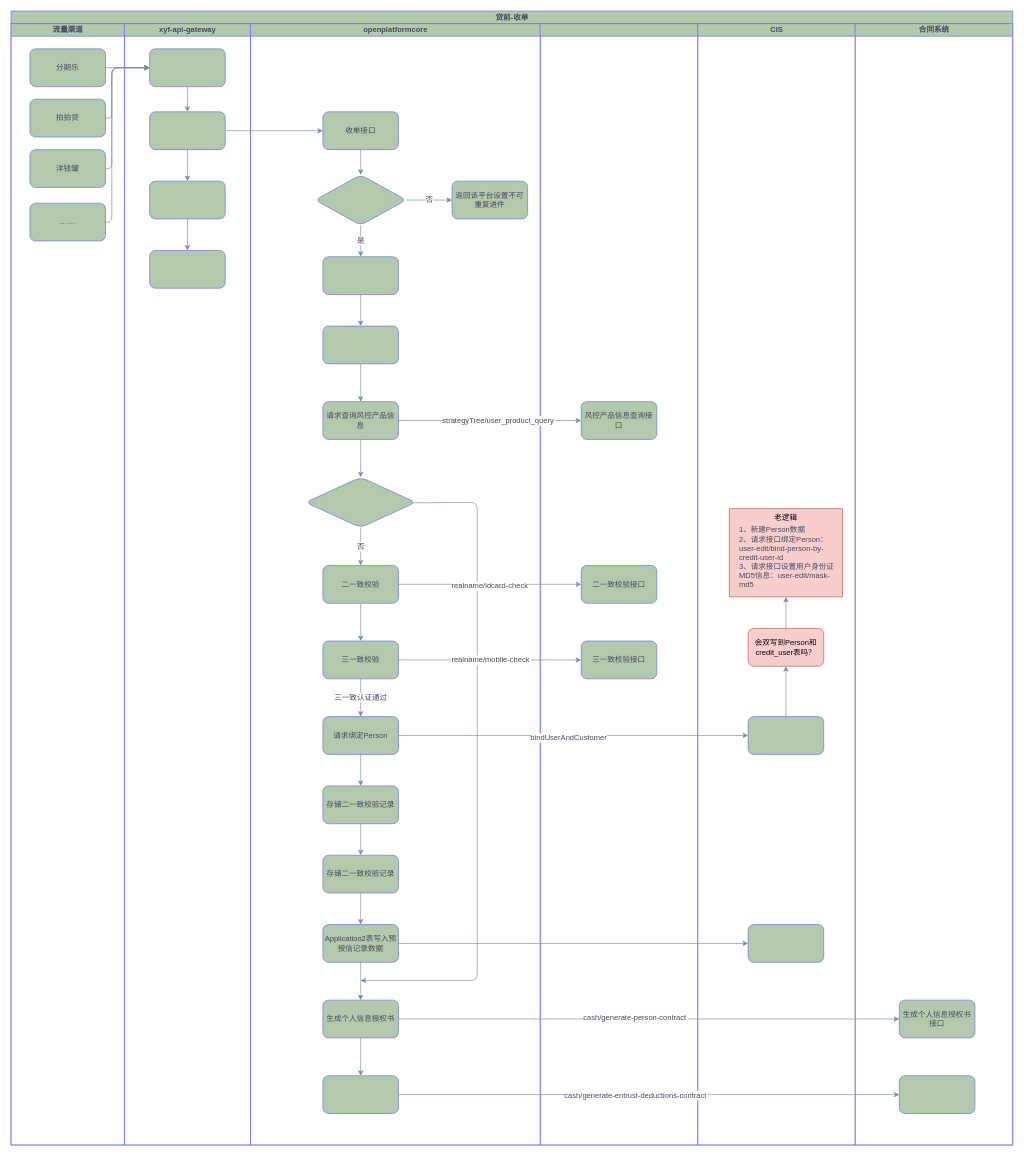
This 1024x1156 diagram has some shape labels left out. Each missing label, with the box of its shape:
Application2表数据写入接口: (747, 924, 824, 962)
同一身份证号+mobile+姓名是否有激活成功的记录: (305, 477, 416, 528)
新增cash_out_apply表数据: (322, 256, 398, 295)
是否允许渠道重复进件: (314, 174, 406, 225)
生成委托扣款协议: (322, 1075, 398, 1114)
生成委托扣款协议接口: (899, 1075, 975, 1114)
绑定Person接口: (747, 716, 824, 754)
请求上报风险挑战项: (149, 180, 225, 219)
请求收单: (149, 111, 225, 150)
请求激活: (149, 250, 225, 288)
请求进件接口: (149, 48, 225, 87)
进行授信: (322, 325, 398, 364)
风控服务: (540, 23, 698, 1145)
